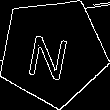N_N: (29, 23, 77, 80)
